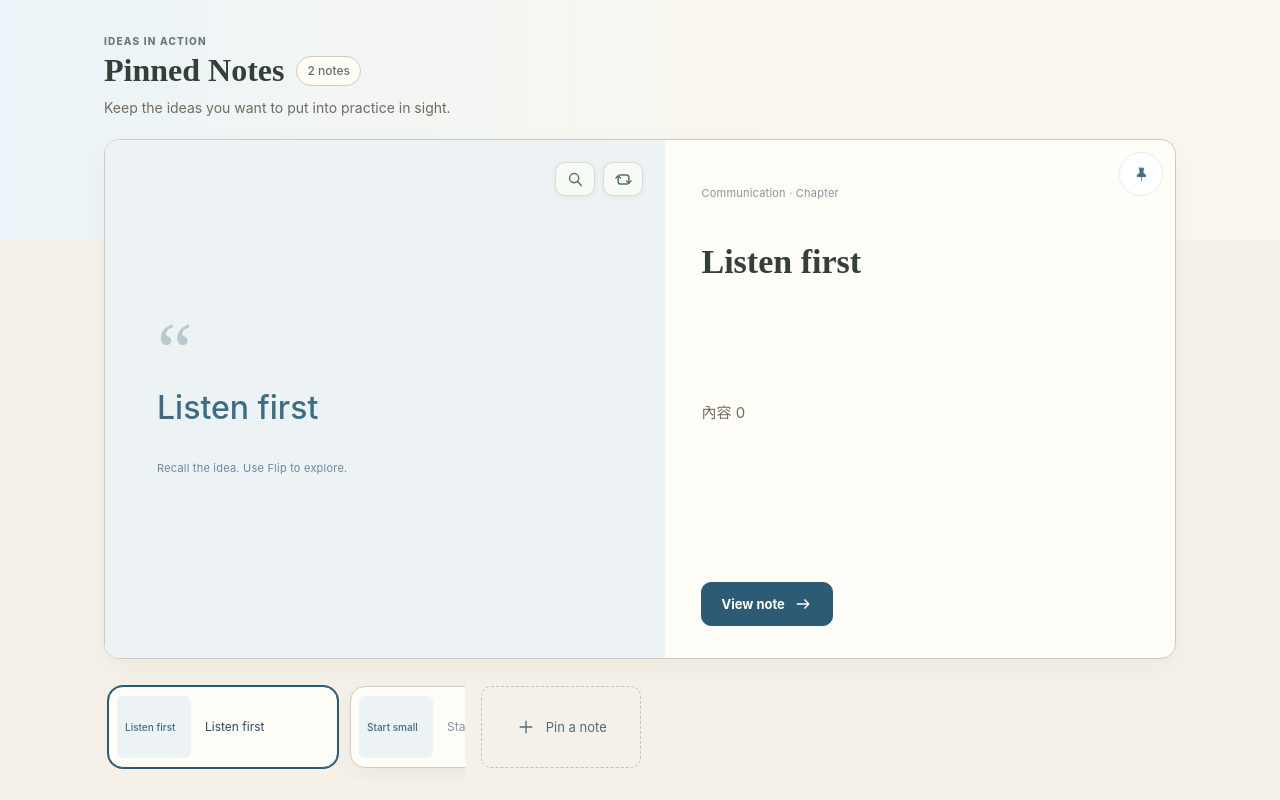
Test case: F45 T8: backdrop dismissal waits for an in-flight pin to finish
The image size is (1280, 800).
Expected: the heading "Pinned Notes 2 notes" is shown, top-left (104, 52), bottom-right (361, 88)
What coordinates should you click on to do the following:
click the button "Pin a note"
I would click on:
 (561, 727)
Its box is top-left (481, 686), bottom-right (641, 768).
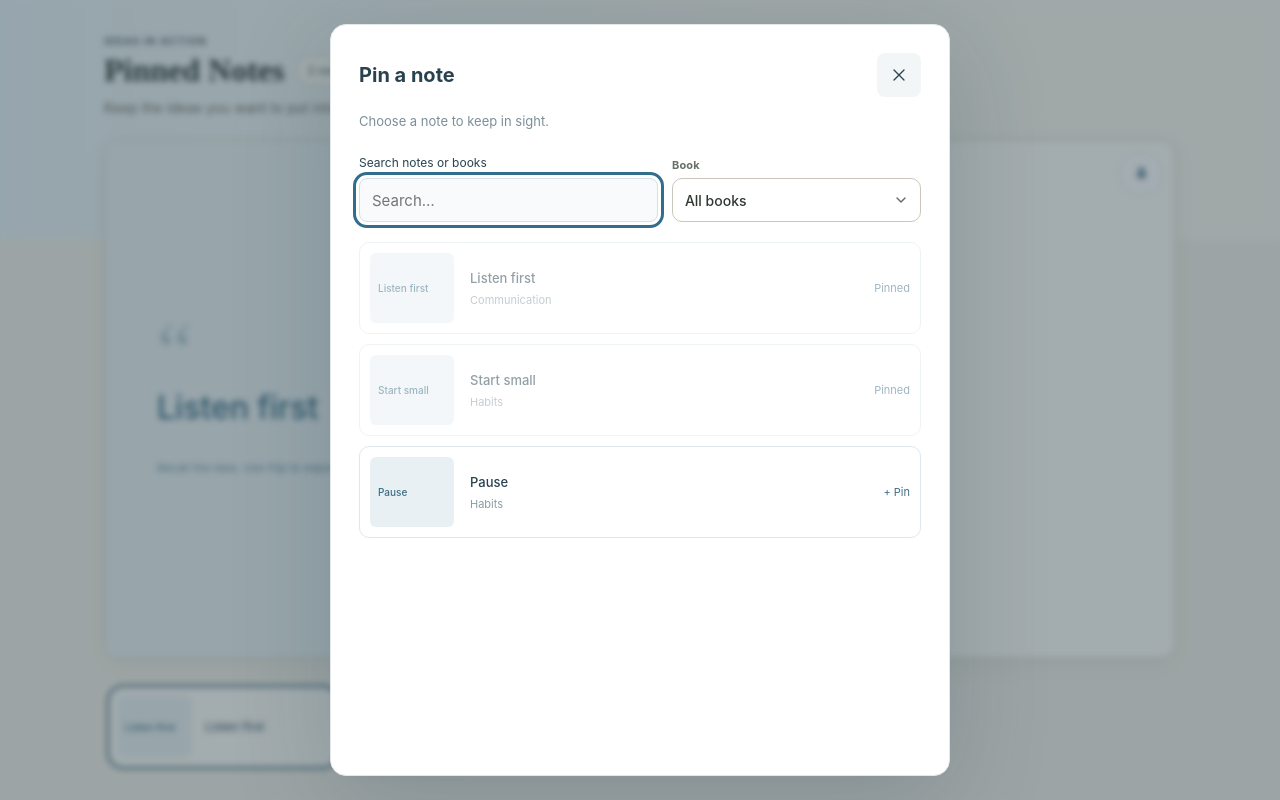
What coordinates should you click on to do the following:
click the button with aria-label "Pin: Pause"
I would click on:
 (412, 492)
Its box is top-left (359, 446), bottom-right (921, 538).
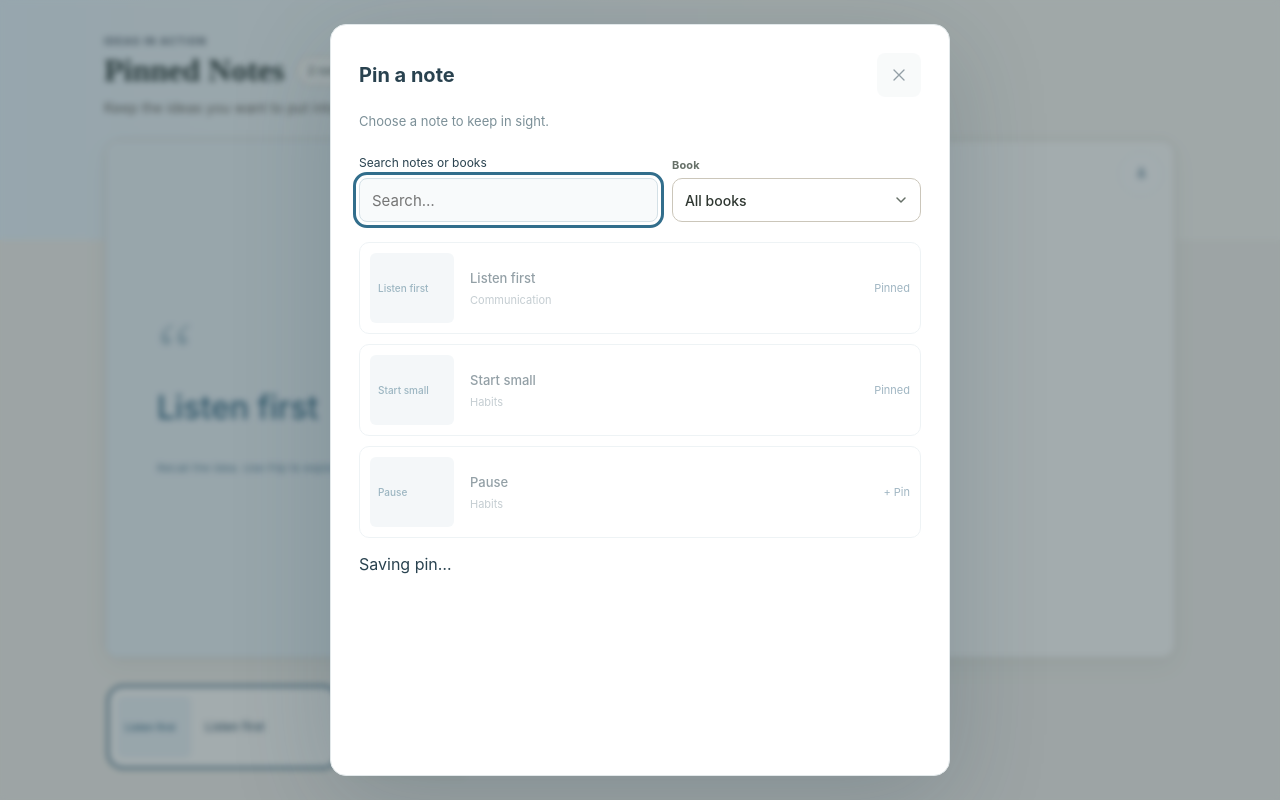
What coordinates should you click on to do the following:
click the dialog
I would click on:
 (640, 400)
Its box is top-left (330, 24), bottom-right (950, 776).
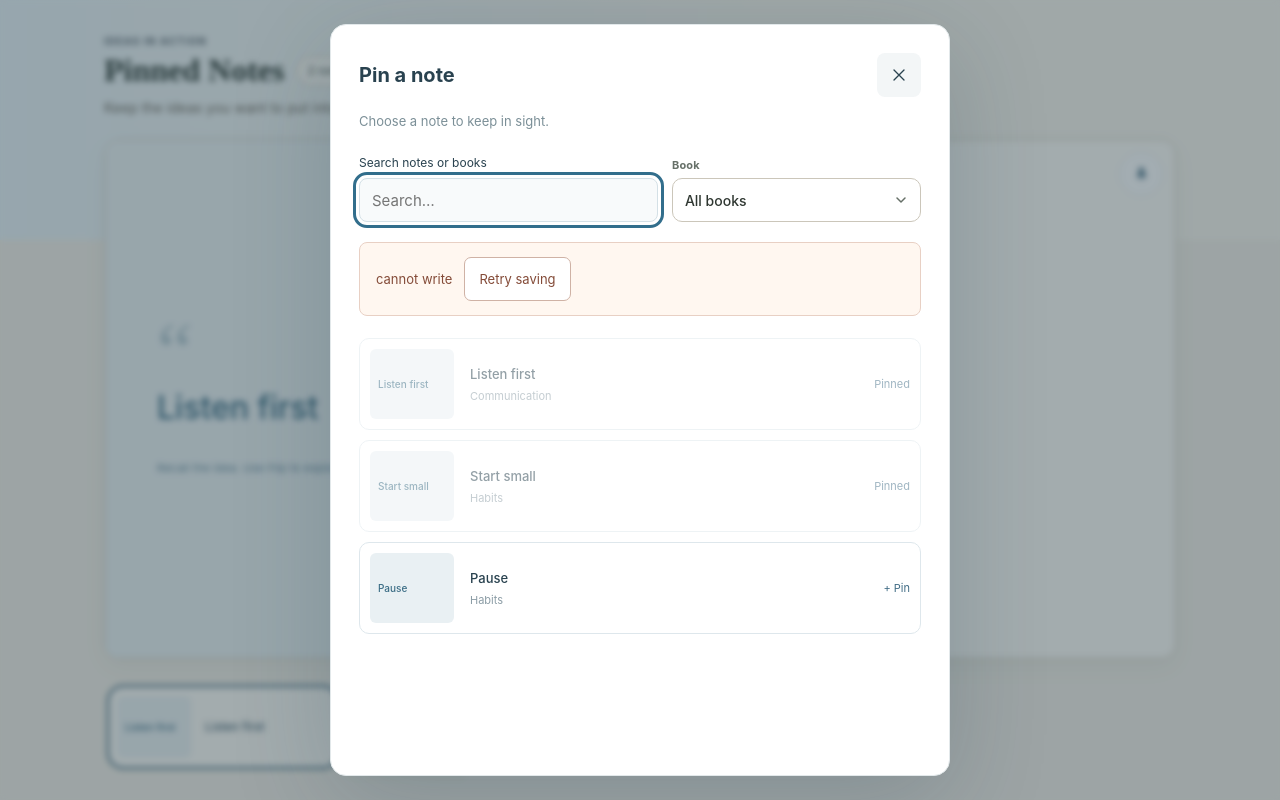
Expected: the message "cannot write Retry saving" is shown, top-left (359, 242), bottom-right (921, 316)
What coordinates should you click on to do the following:
click the dialog
I would click on:
 (640, 400)
Its box is top-left (330, 24), bottom-right (950, 776).
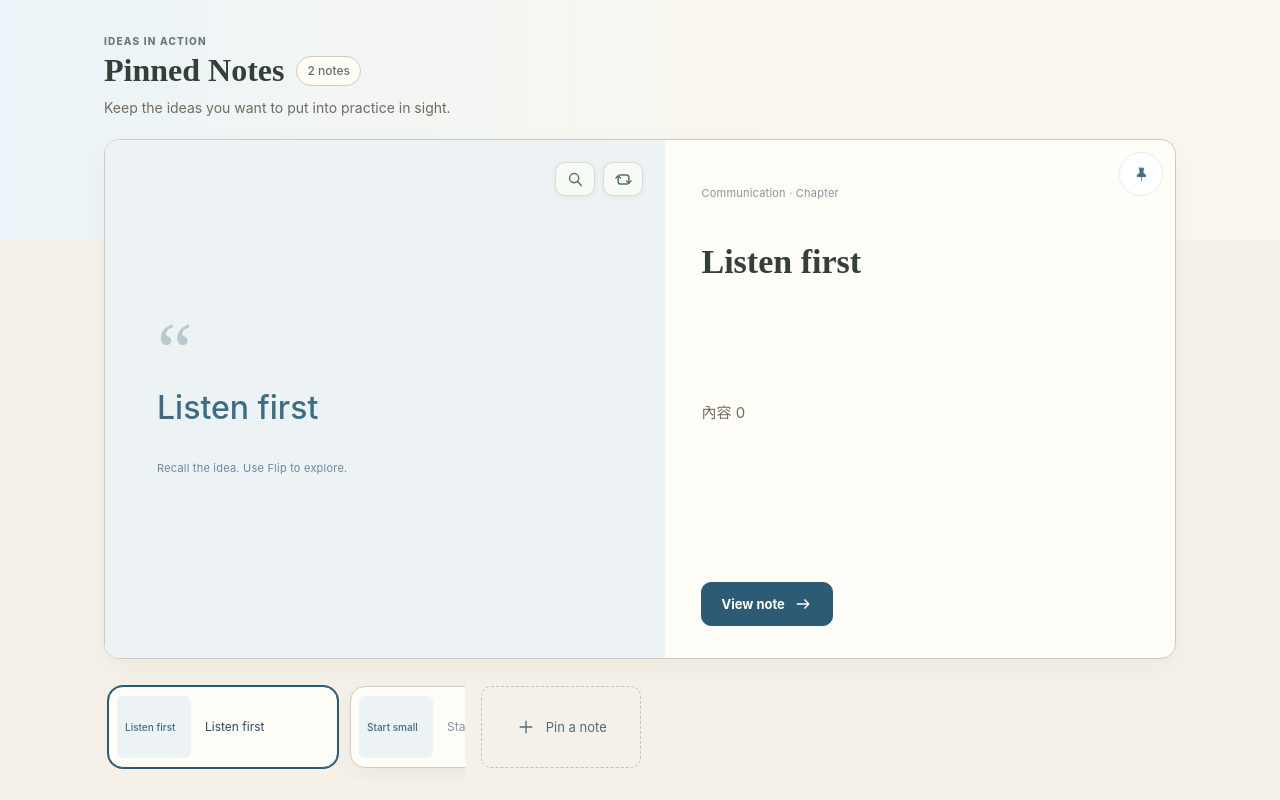
Expected: the dialog is gone
